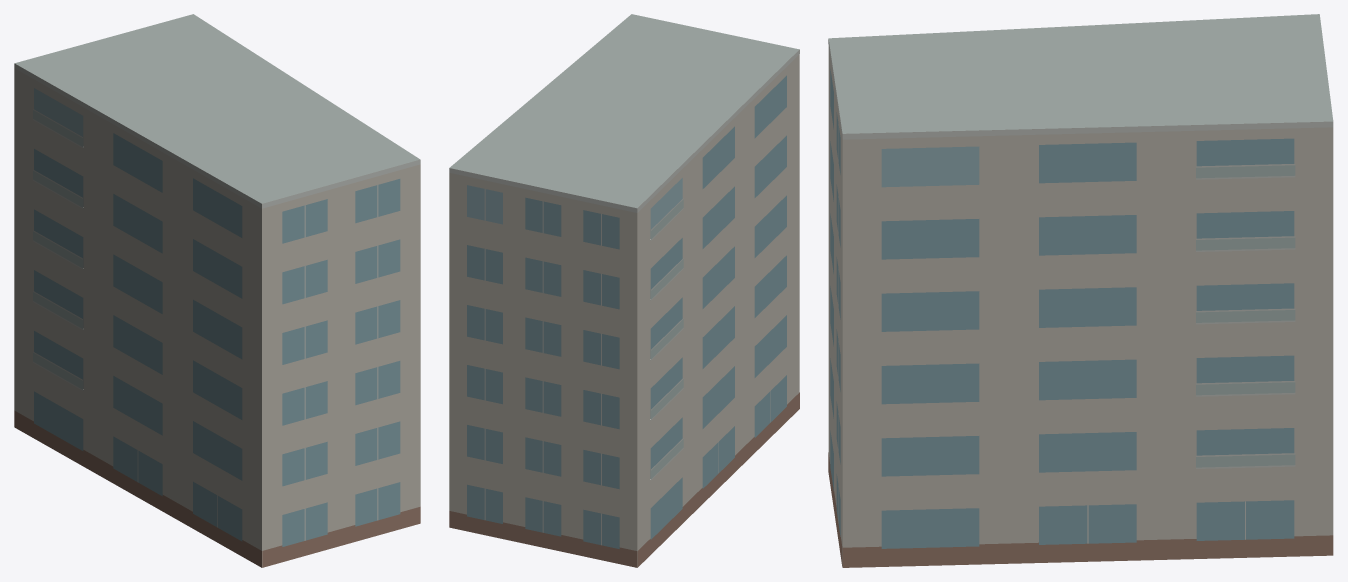
The model's file is survey-upis-32701391.glb.
3 renders of one model, left to right at view 1: azimuth 30°, elevation 25°; view 2: azimuth 150°, elevation 25°; view 3: azimuth 270°, elevation 25°, orthographic. The views are drawn at different scales.
Parts seen in each view (by area): view 1: survey-upis-32701391.tmp; view 2: survey-upis-32701391.tmp; view 3: survey-upis-32701391.tmp.
Boxes of the visible parts, x1=… form: survey-upis-32701391.tmp: x1=14, y1=14, x2=420, y2=567; survey-upis-32701391.tmp: x1=449, y1=14, x2=799, y2=567; survey-upis-32701391.tmp: x1=828, y1=14, x2=1333, y2=567.
Size of the model in its own units: 10.85 by 18.3 by 19.3.
